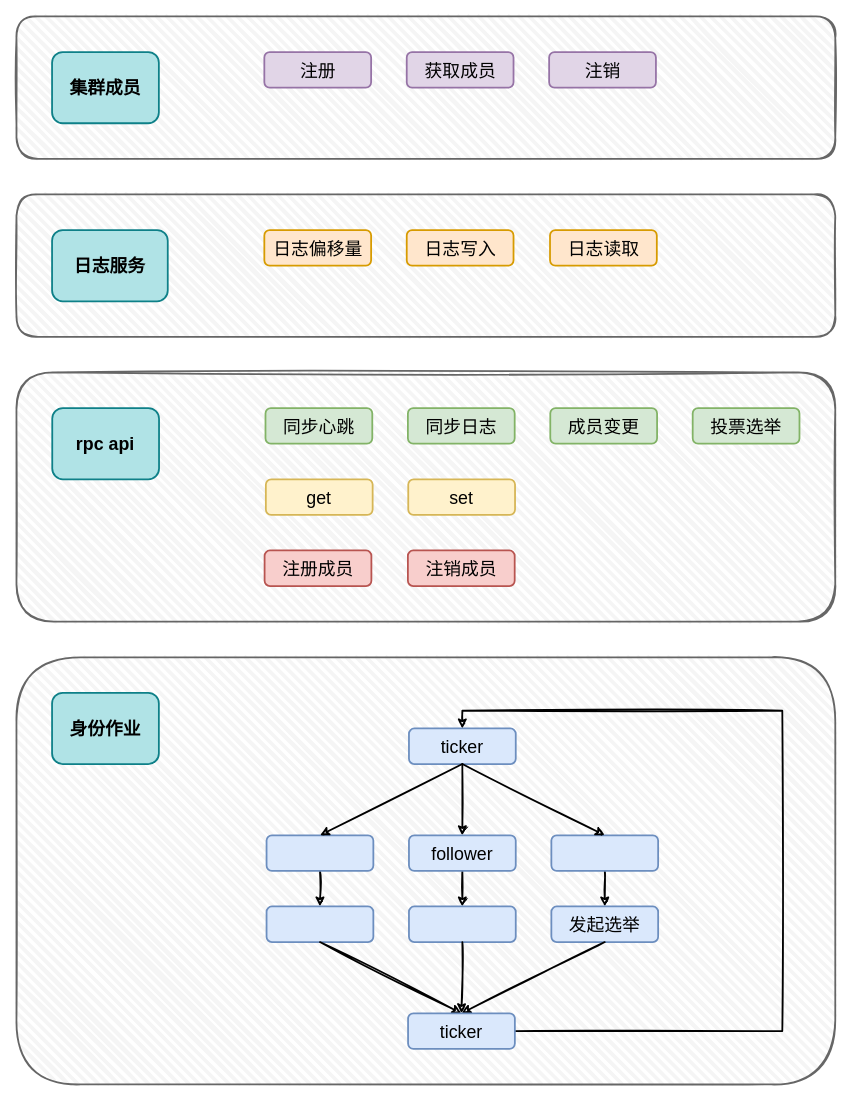
Some shapes in this 851 by 1100 pixel diagram are drawn without their labels. Here are the shapes that lost their labels. From the top down, the centre of each, then its label:
At point (319, 852): "leader".
At point (604, 852): "candidate".
At point (319, 924): "同步信息".
At point (462, 924): "监听心跳".
